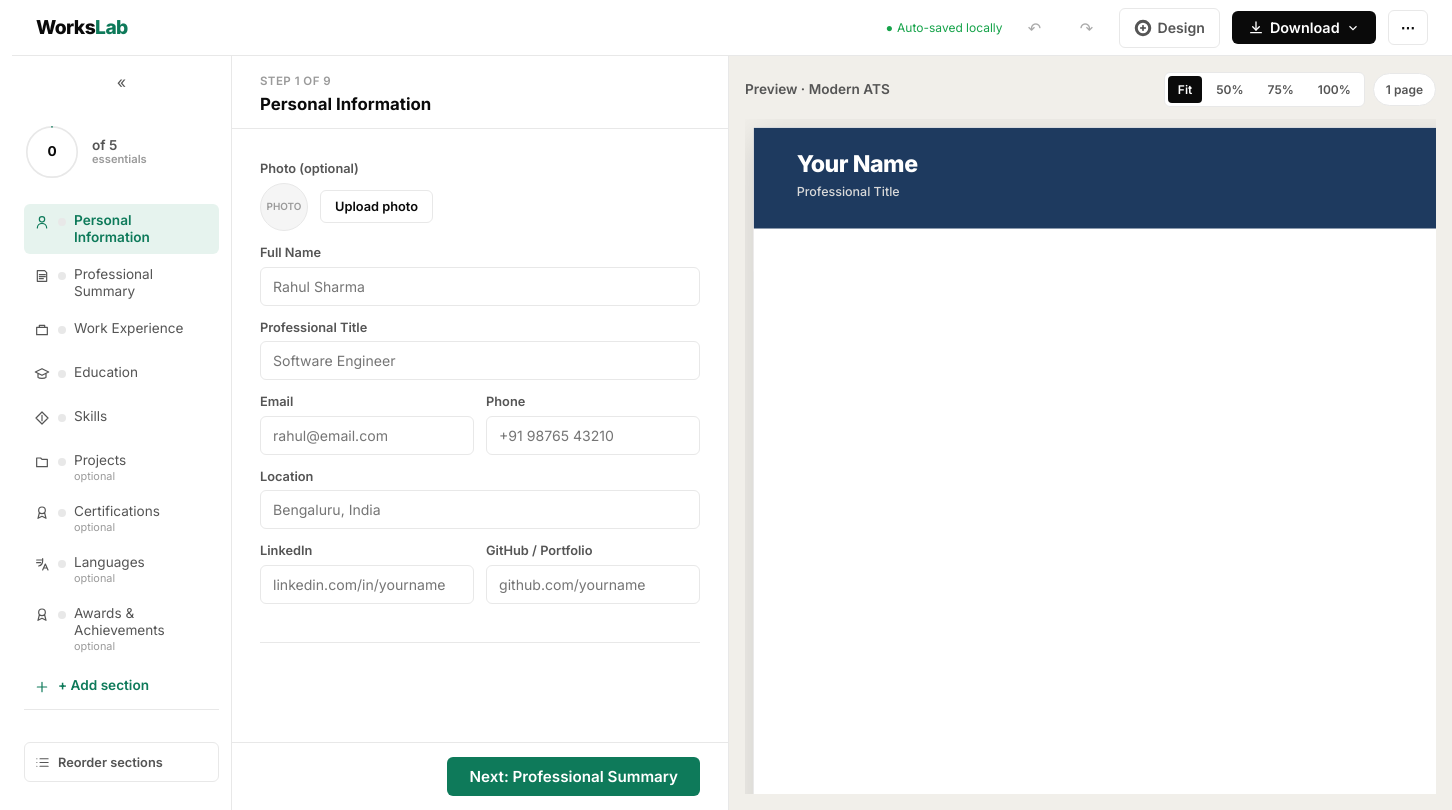
Test: Builder step flow › Next advances to the next step and Back returns to the previous one
Click the button "Next: Professional Summary" at (574, 776), box [448,757,700,796]
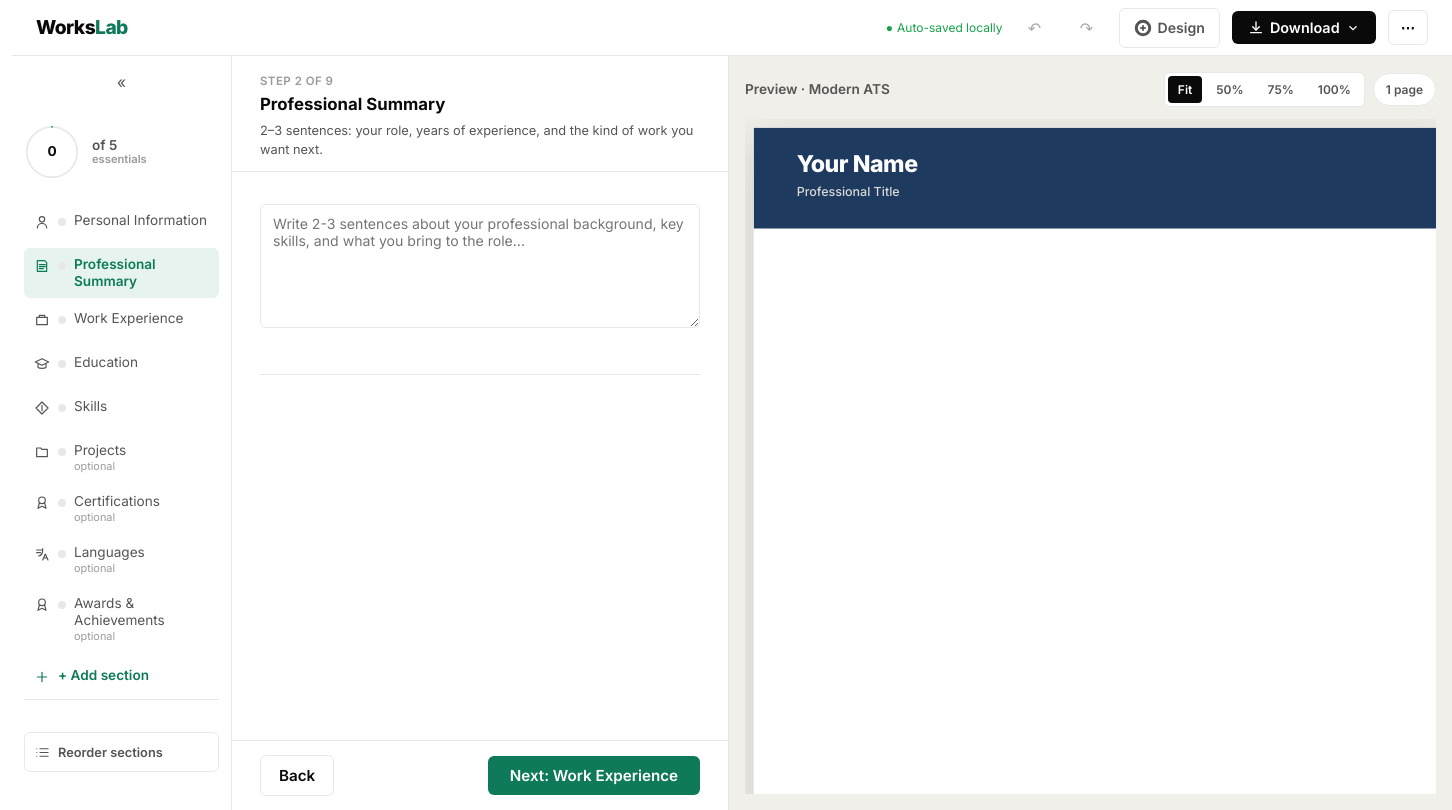
Result: the heading "Professional Summary" is shown at [260,94,445,114]
Click the button "Back" at (297, 776), box [260,755,334,796]
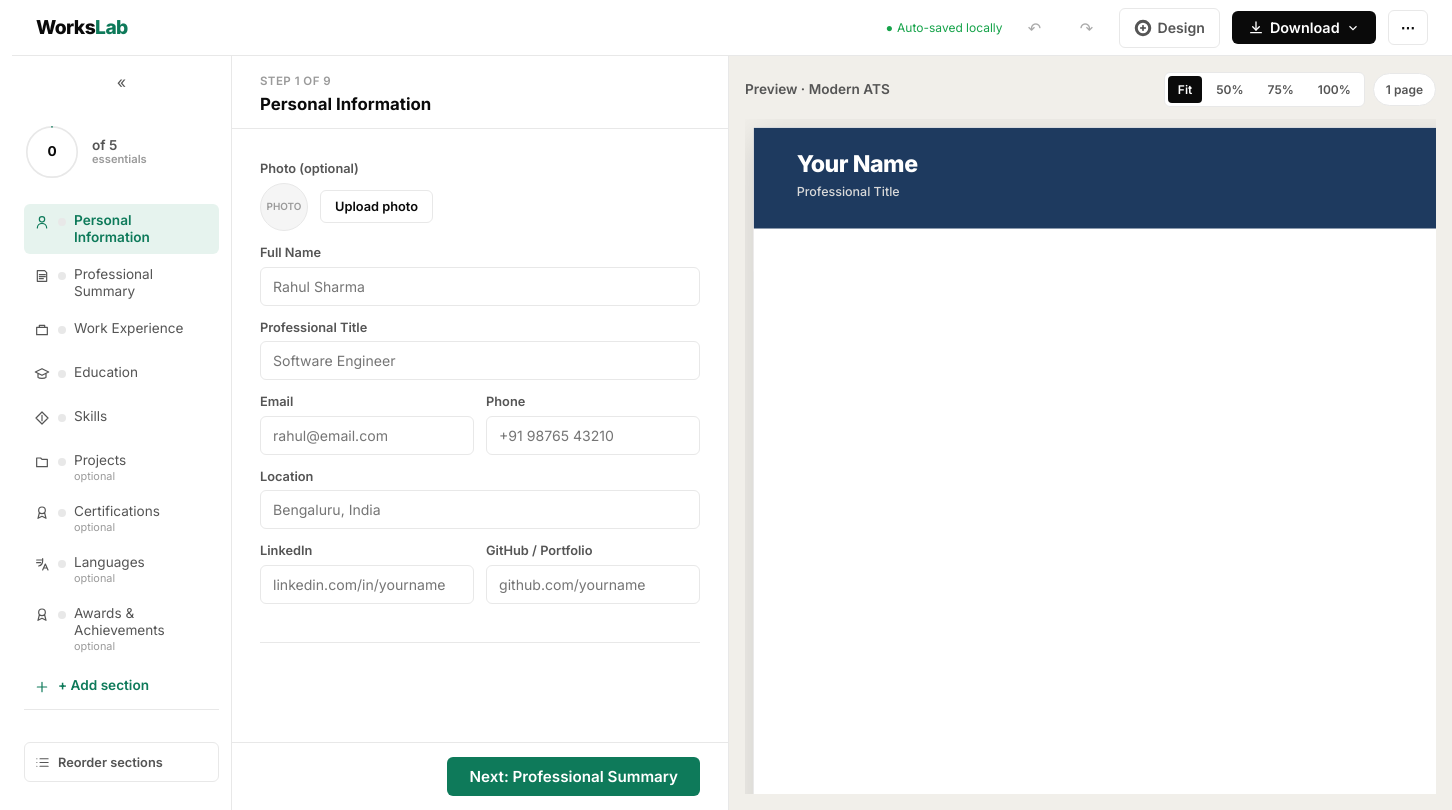
Result: the heading "Personal Information" is shown at [260,94,431,114]
